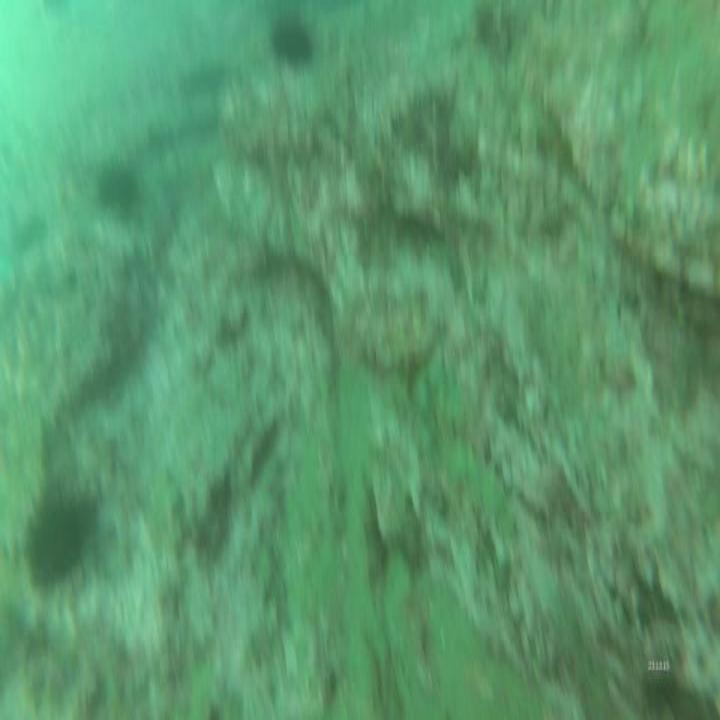echinus: (26, 485, 92, 594), (94, 153, 145, 219), (262, 9, 316, 69)
holothurian: (446, 437, 512, 537)
